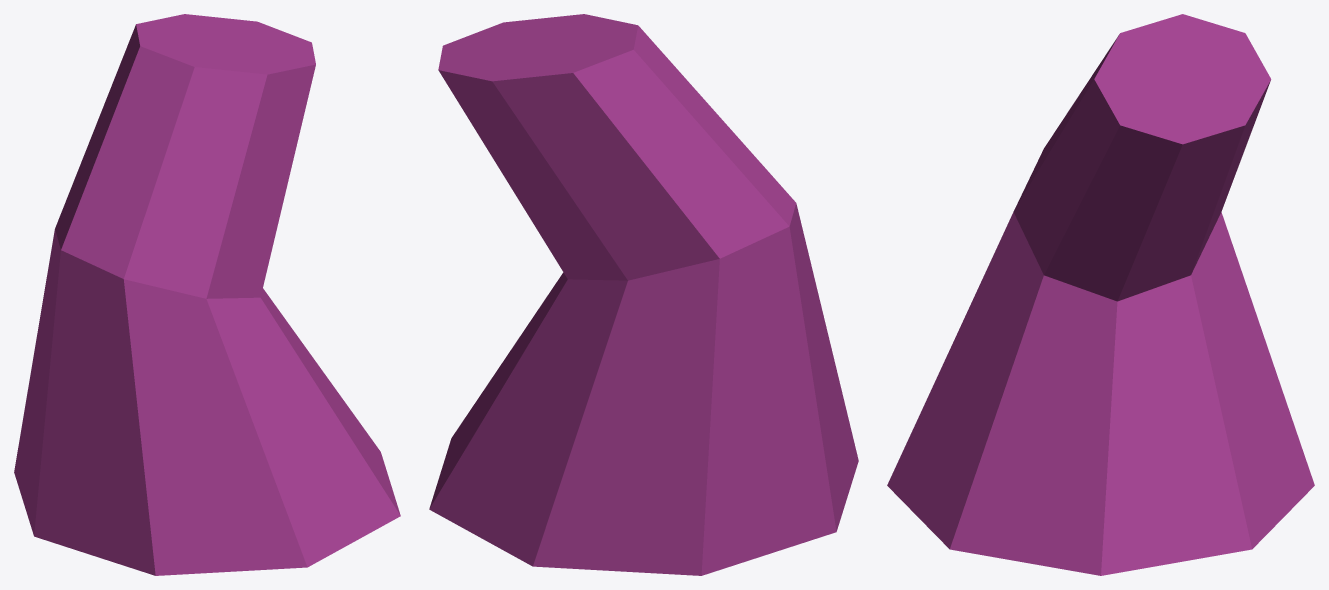
The model's file is SM_Env_Tree_Marsh_02_Collision.fbx.
The picture shows the model from 3 angles, left to right: view 1: azimuth 30°, elevation 25°; view 2: azimuth 150°, elevation 25°; view 3: azimuth 270°, elevation 25°; orthographic projection. The views are drawn at different scales.
Visible parts, largest first — view 1: SM_Env_Tree_Marsh_02_Collision; view 2: SM_Env_Tree_Marsh_02_Collision; view 3: SM_Env_Tree_Marsh_02_Collision.
Part boxes in pixels (x1=…): SM_Env_Tree_Marsh_02_Collision: x1=14, y1=14, x2=400, y2=575; SM_Env_Tree_Marsh_02_Collision: x1=429, y1=14, x2=858, y2=575; SM_Env_Tree_Marsh_02_Collision: x1=887, y1=14, x2=1314, y2=575.
Size of the model in its own units: 408 by 480 by 408.
